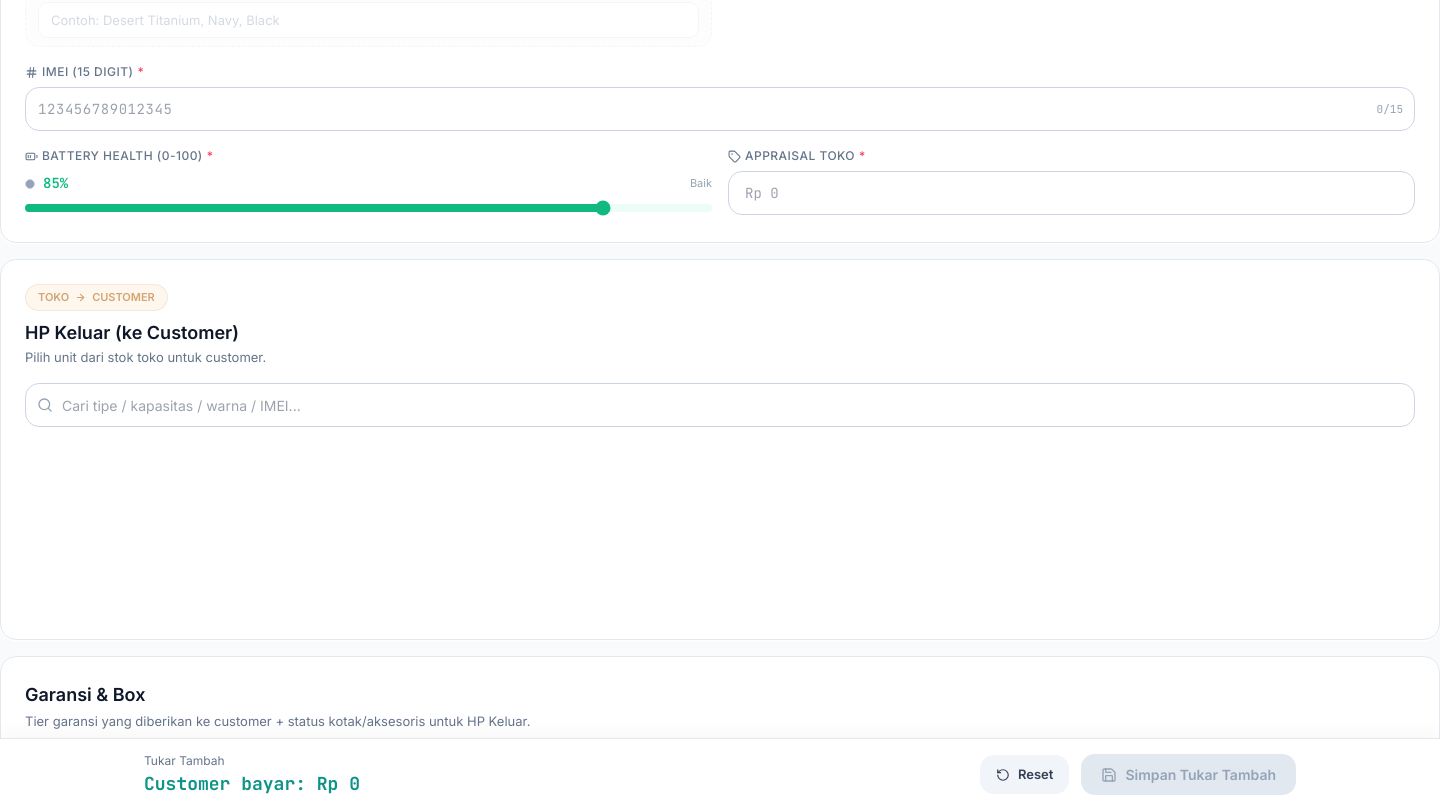
Test: HP Keluar search › filters ready stock by IMEI
This screenshot has width=1440, height=810.
(page scrolled)
Type "356011269135262" into the field with placeholder "Cari tipe / kapasitas / warna / IMEI...".
click(720, 405); type("356011269135262")  # box [25,383,1415,427]
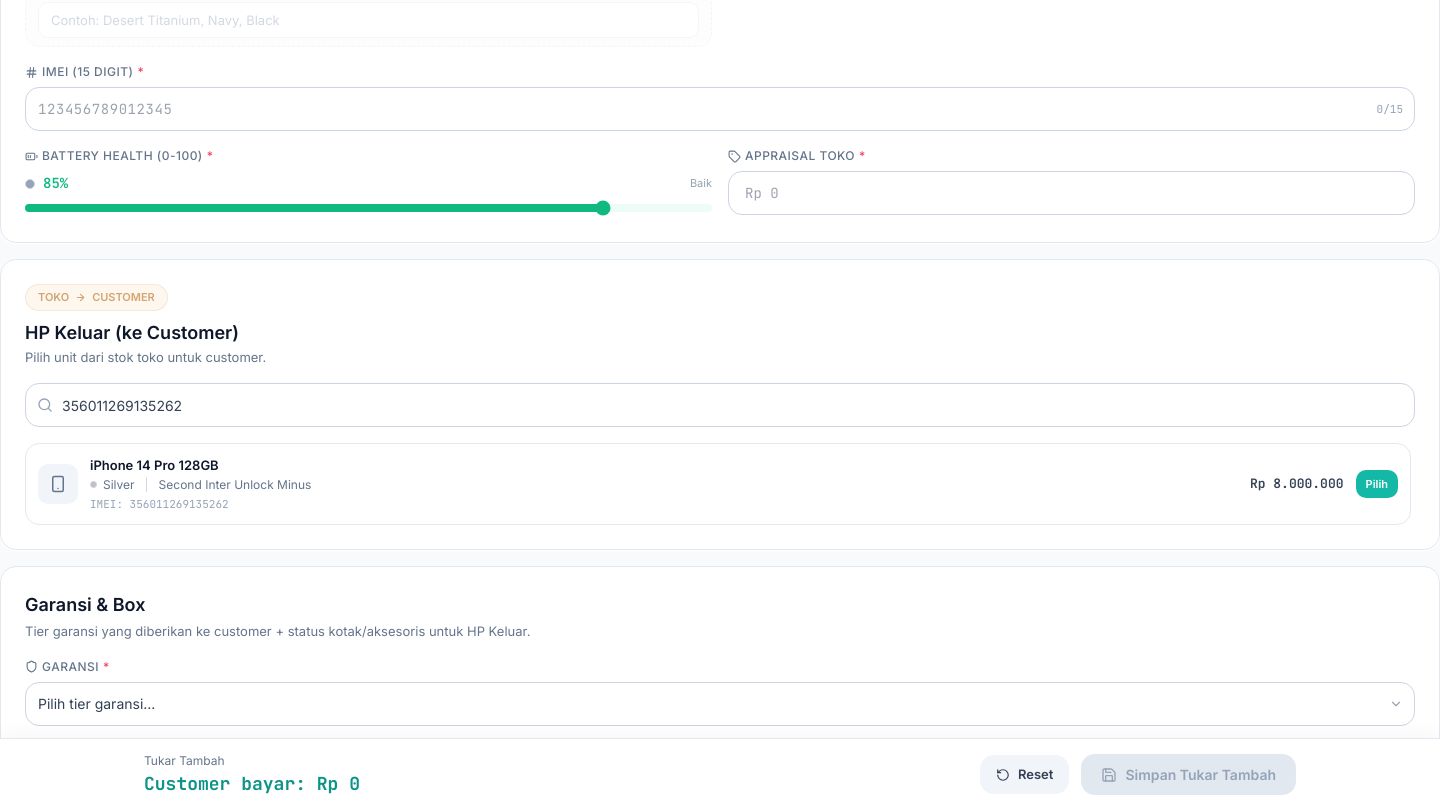
Result: the text "iPhone 14 Pro 128GB" is shown at [90,457,219,473]
